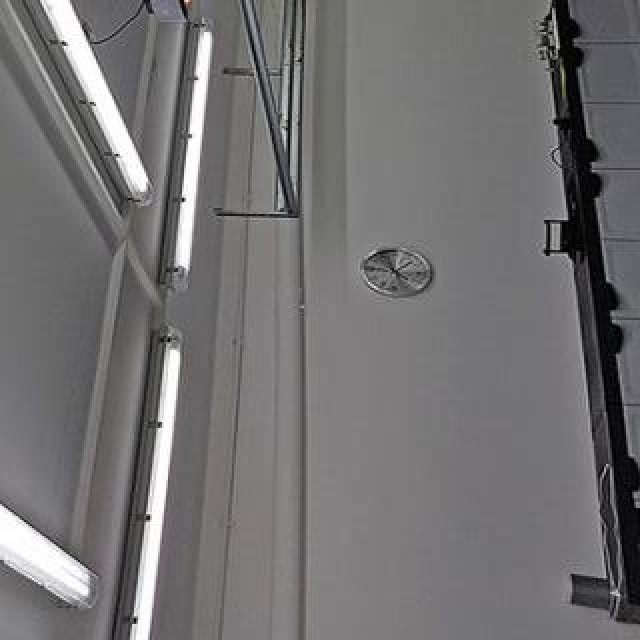fluorescent tube: (0, 0, 170, 262), (0, 406, 114, 640)
